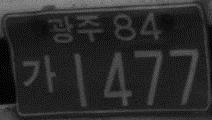1: (71, 49, 89, 110)
4: (102, 49, 133, 107), (138, 10, 162, 42)
7: (130, 49, 164, 108), (168, 48, 199, 106)
8: (112, 12, 136, 42)
가: (21, 54, 57, 95)
광주_O: (46, 13, 104, 44)
